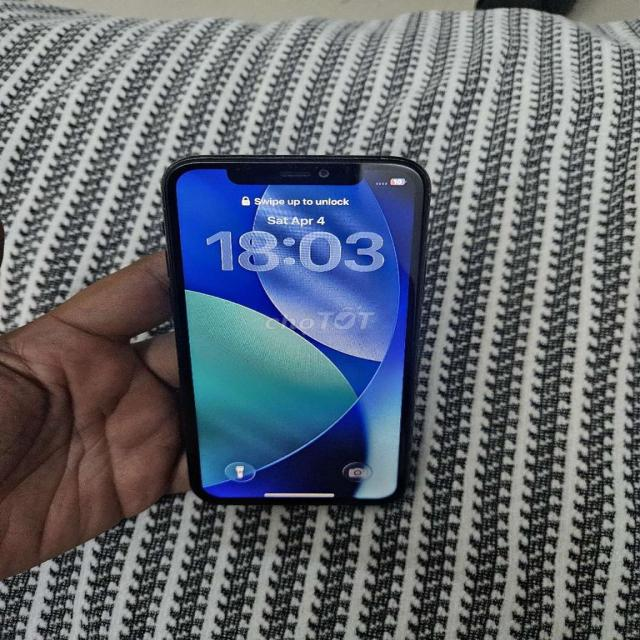gen_11: (162, 155, 430, 505)
